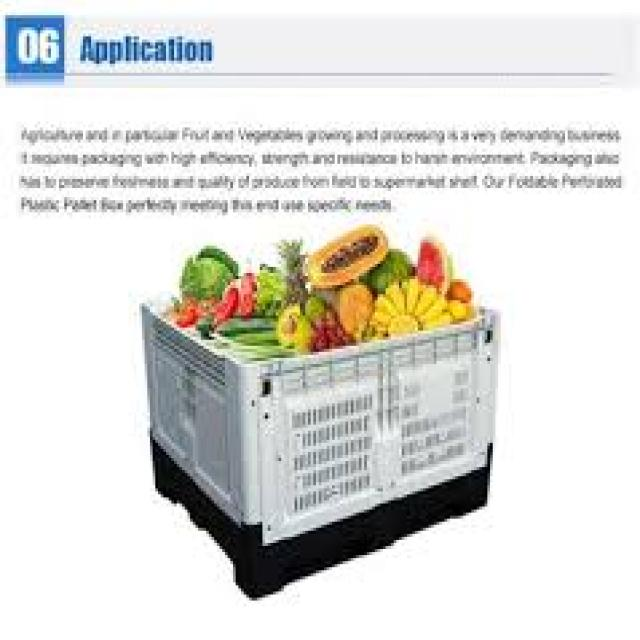basket: (138, 308, 497, 599)
